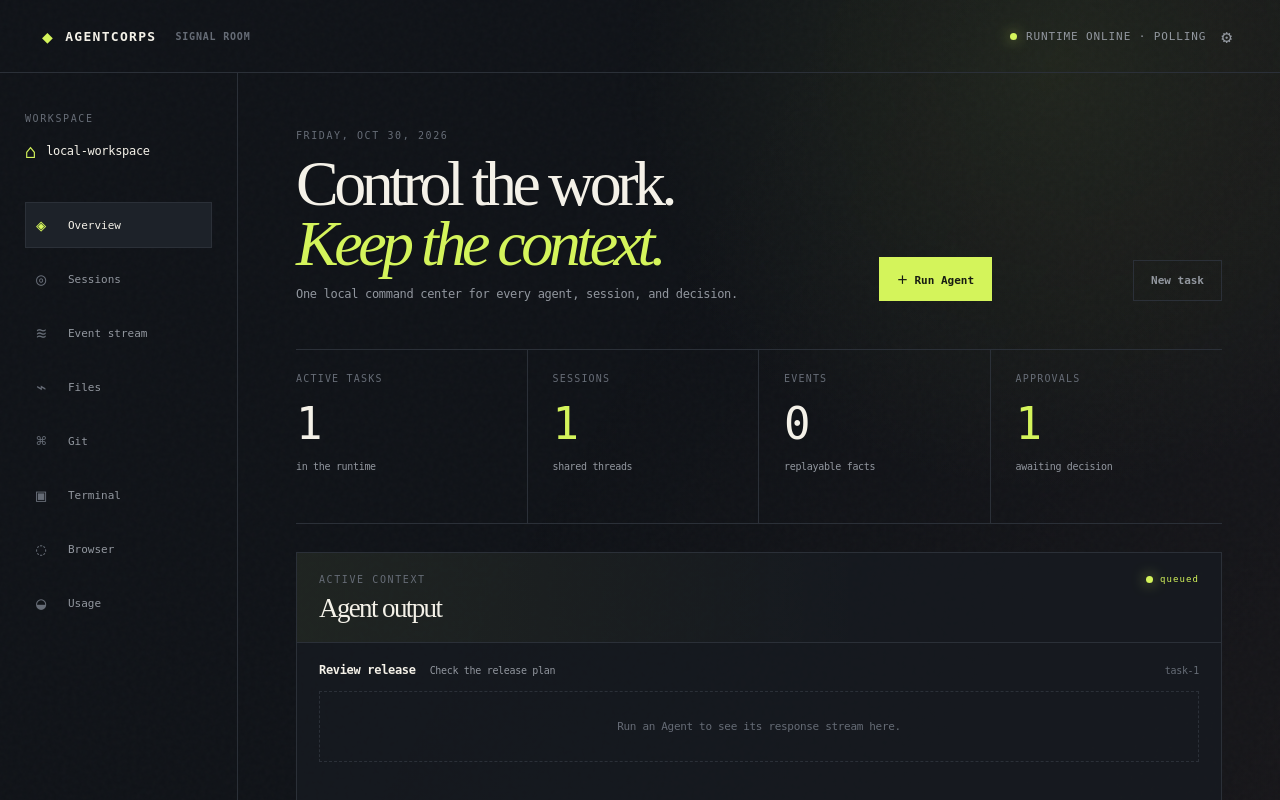
React management console › browses workspace files and previews a selected text file
Step 1. Click the button "⌁ Files" → (118, 387), box [25, 364, 212, 410]
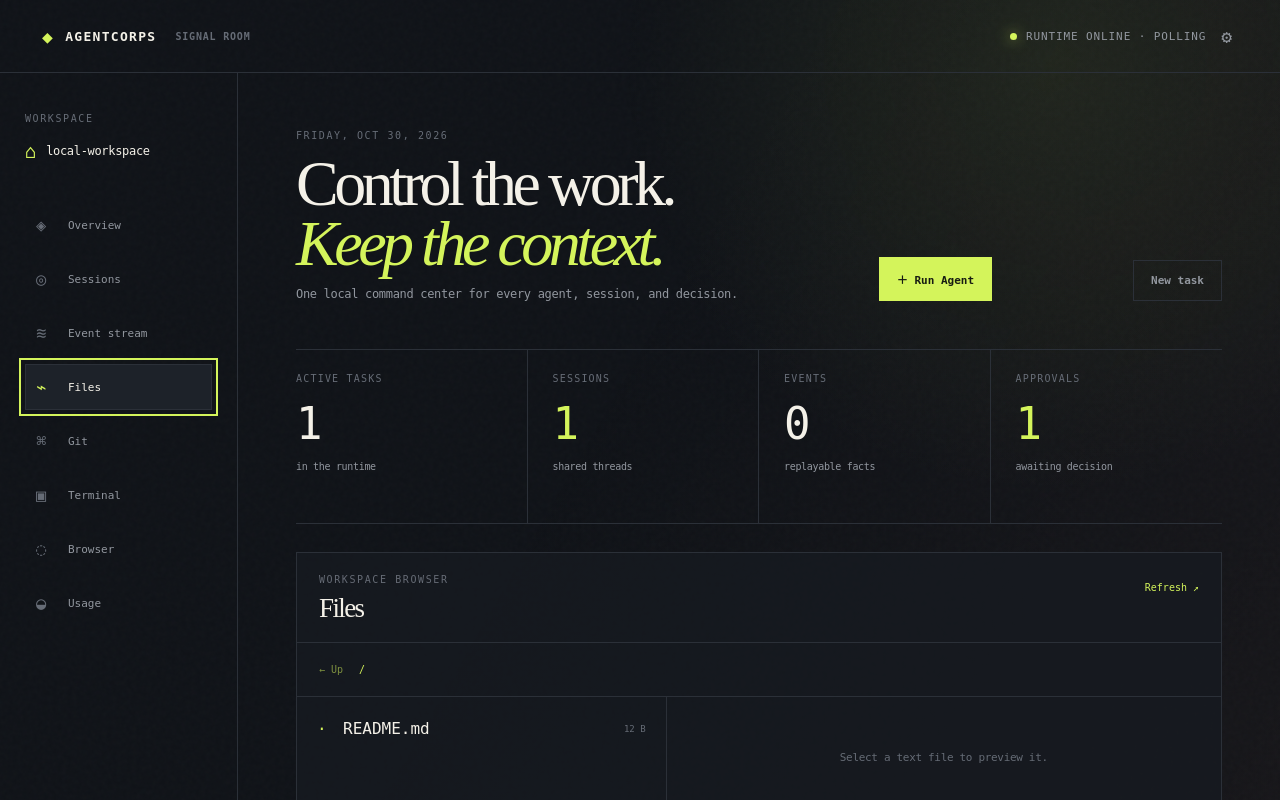
Result: the text "README.md" is shown at [343, 719, 430, 738]
Step 2. Click the button "· README.md 12 B" → (386, 729), box [306, 706, 657, 751]
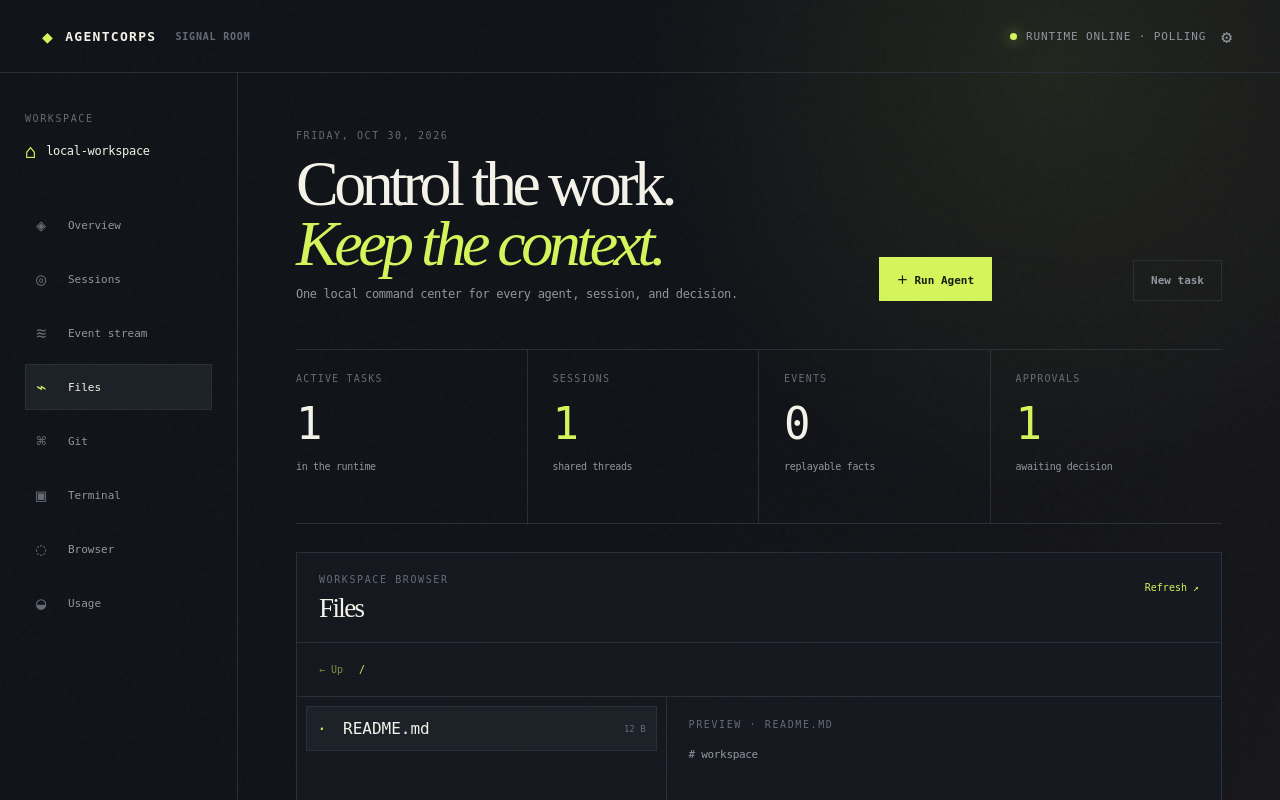
Result: the text "# workspace" is shown at [689, 748, 758, 761]
